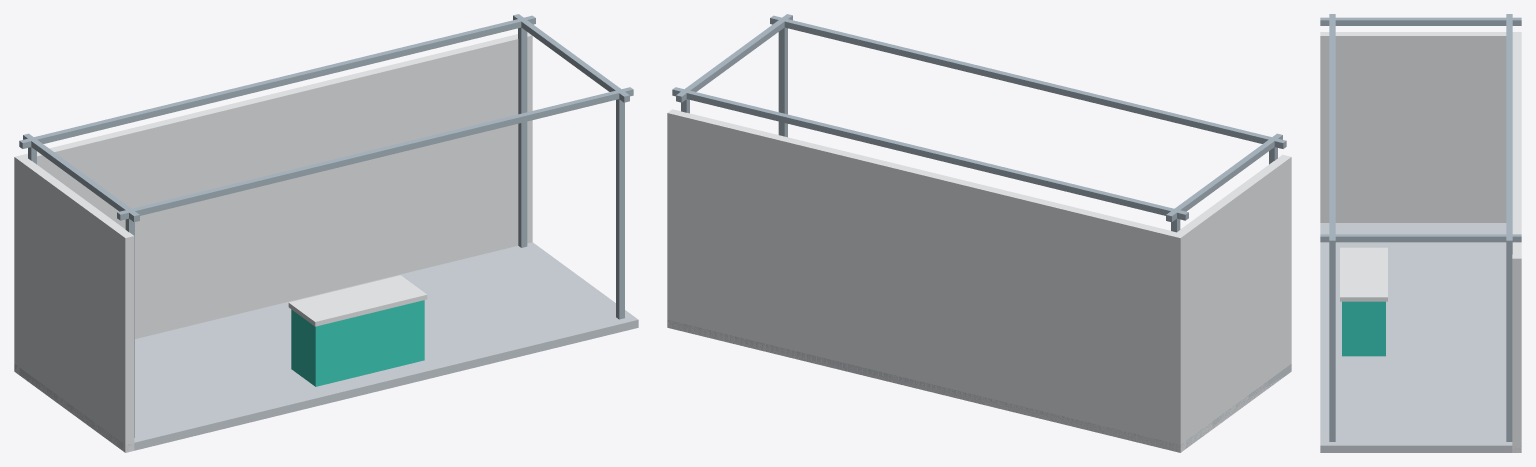
3 renders of one model, left to right at view 1: azimuth 30°, elevation 25°; view 2: azimuth 150°, elevation 25°; view 3: azimuth 270°, elevation 25°, orthographic. The views are drawn at different scales.
Parts seen in each view (by area): view 1: Exhibition Booth Concept; view 2: Exhibition Booth Concept; view 3: Exhibition Booth Concept.
Part boxes in pixels (left/top/right/bottom): Exhibition Booth Concept: left=14, top=14, right=638, bottom=452; Exhibition Booth Concept: left=667, top=14, right=1291, bottom=452; Exhibition Booth Concept: left=1320, top=14, right=1521, bottom=452.
Size of the model in its own units: 8 by 3.49 by 3.
